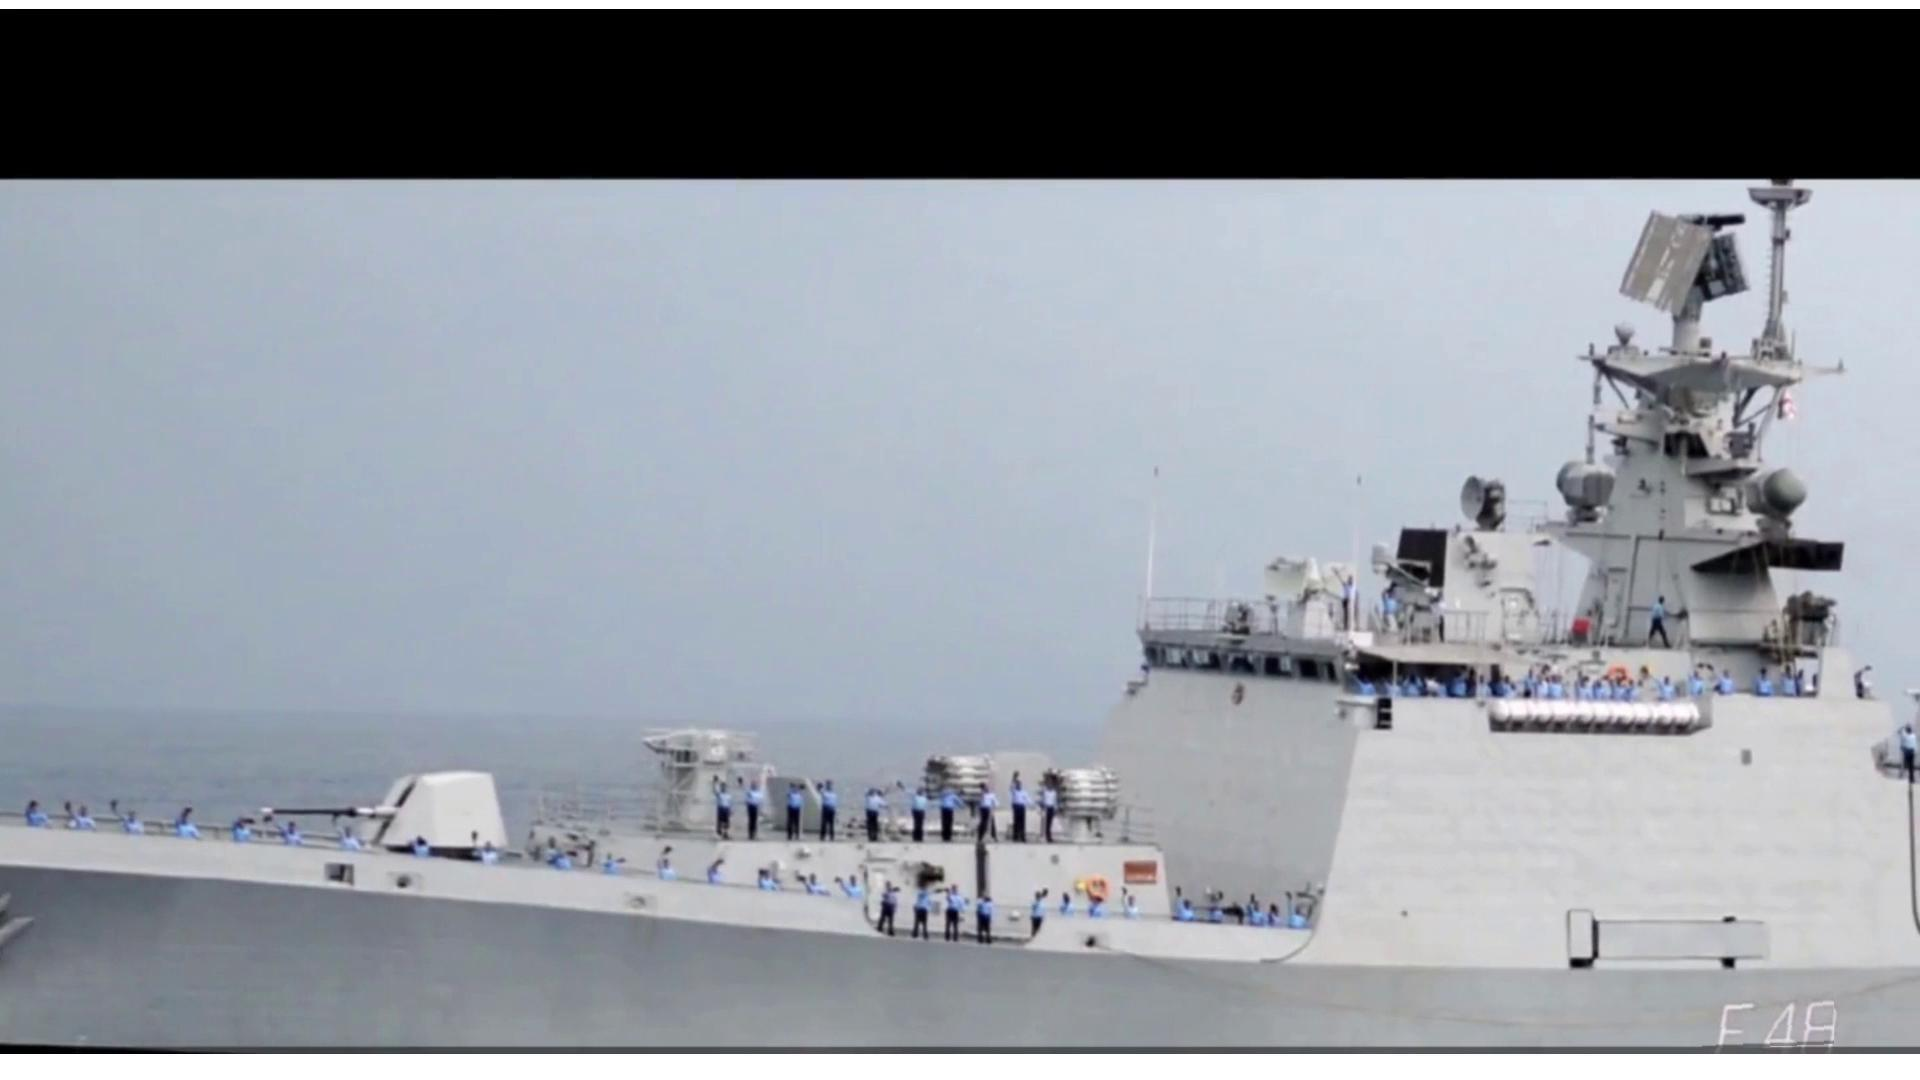OCR: (1700, 988, 1834, 1050)
